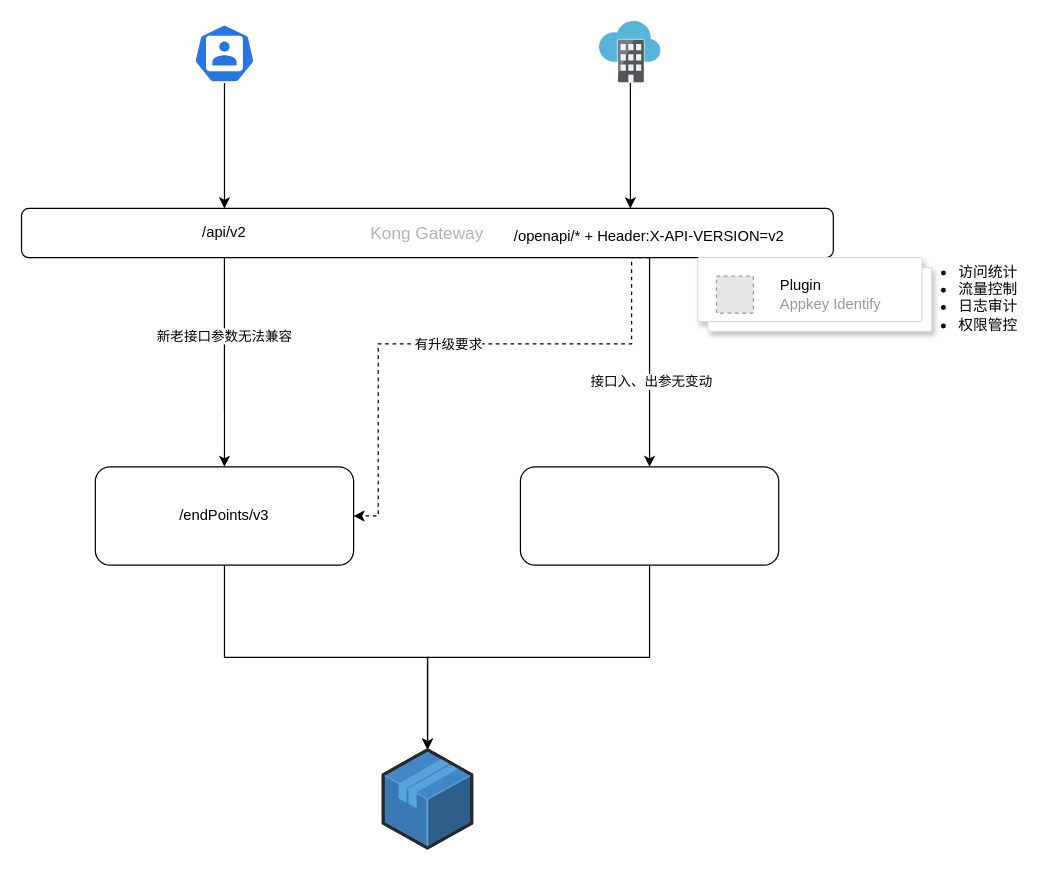
This 1052x894 diagram has some shape labels left out. Grey dashed boxes stand in for pictures. The centre of each missing label's shape, as x and y in pixels:
/endPoints/v2: the point at 649,515
Business Service: the point at 427,798
